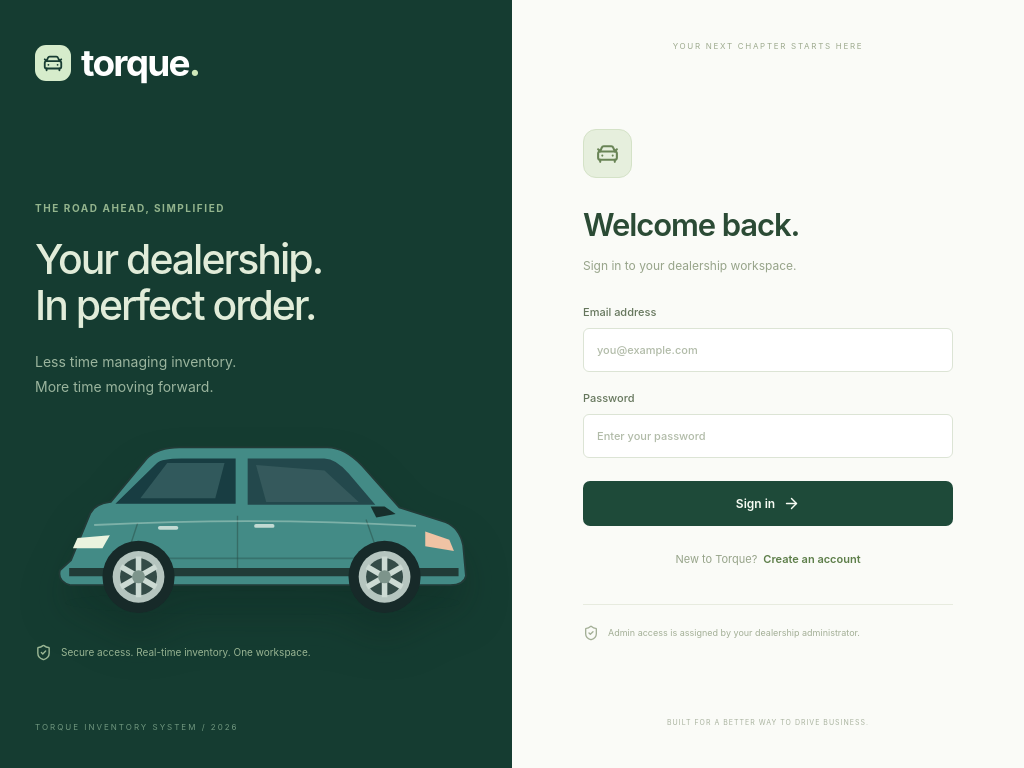
Test: shows a useful message when the server is unavailable
Step 1. Type "siva@example.com" into the field labelled "Email address" → (768, 350), box [583,328,953,372]
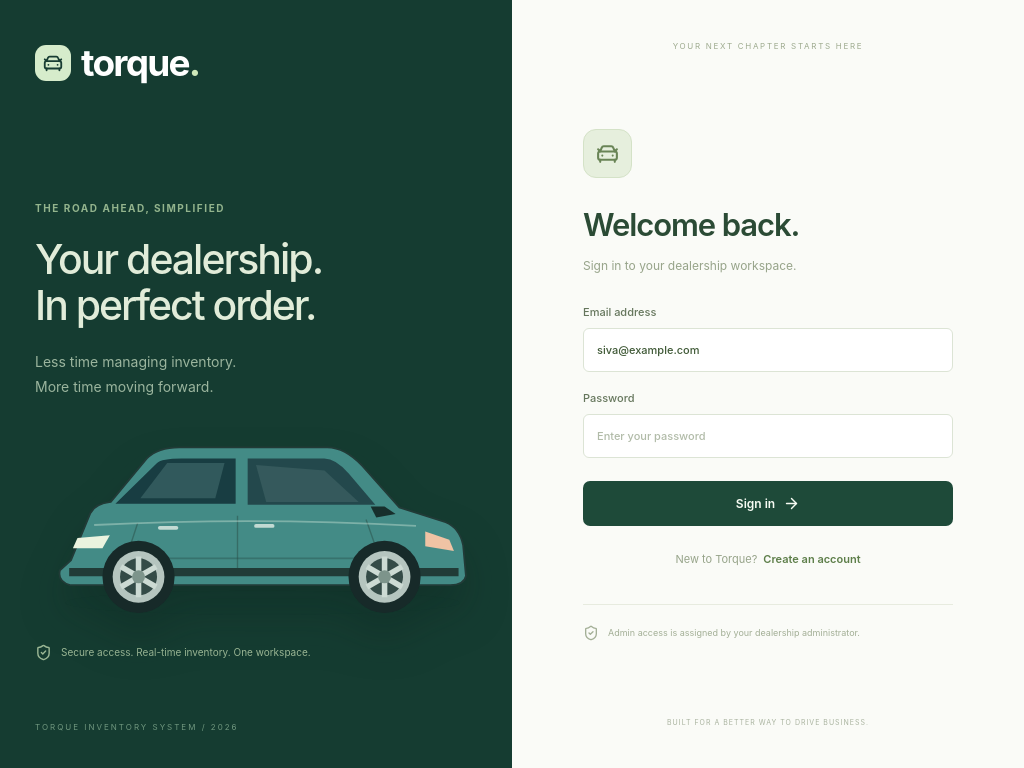
Step 2. Type "StrongPass123!" into the password field labelled "Password" → (768, 436), box [583,414,953,458]
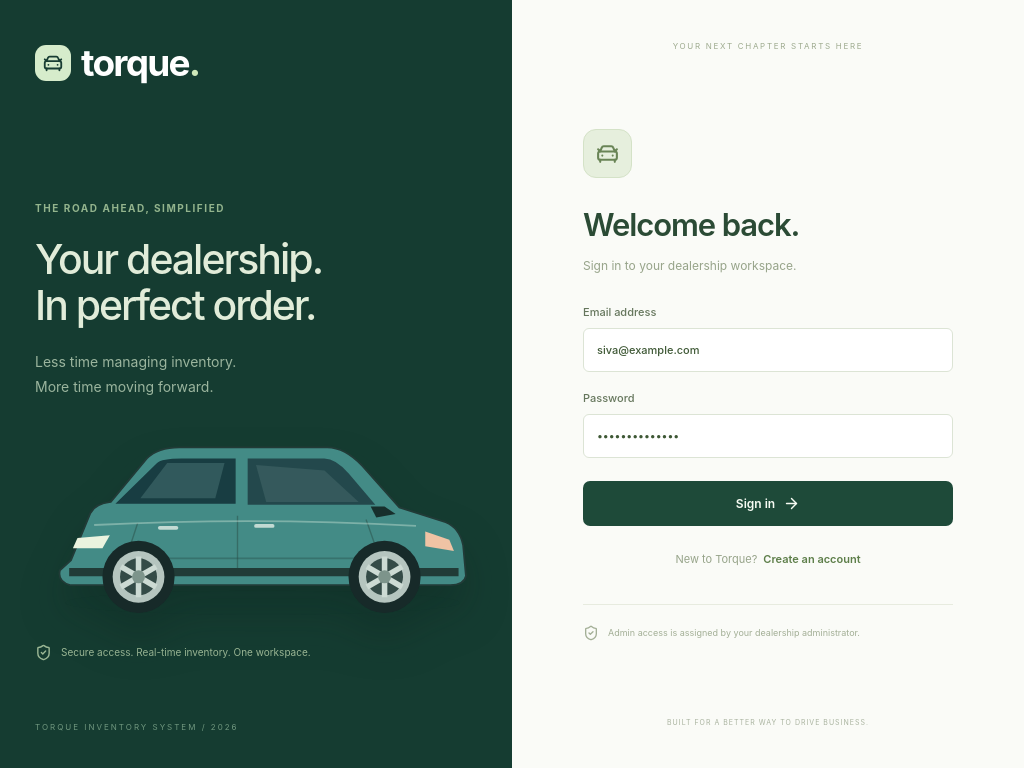
Step 3. Submit the form "Sign in", box [583,304,953,526]
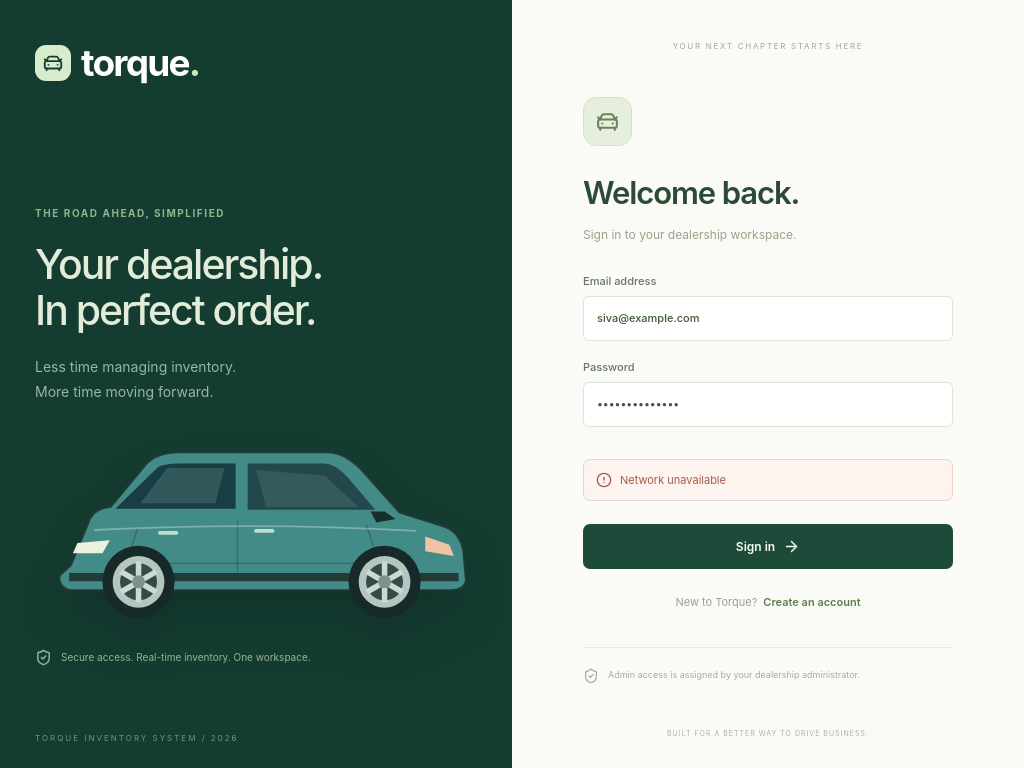
Now the message reads "Network unavailable", box [620,472,726,486]
